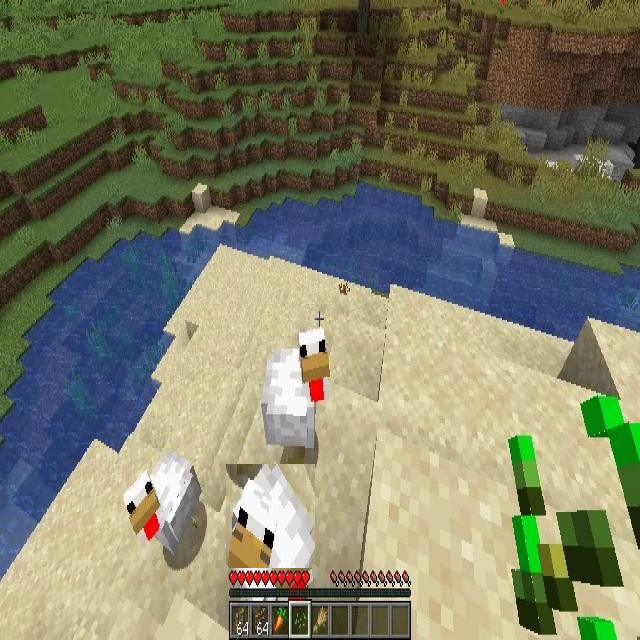duck: (262, 328, 330, 466), (226, 464, 315, 568), (125, 451, 201, 555)
